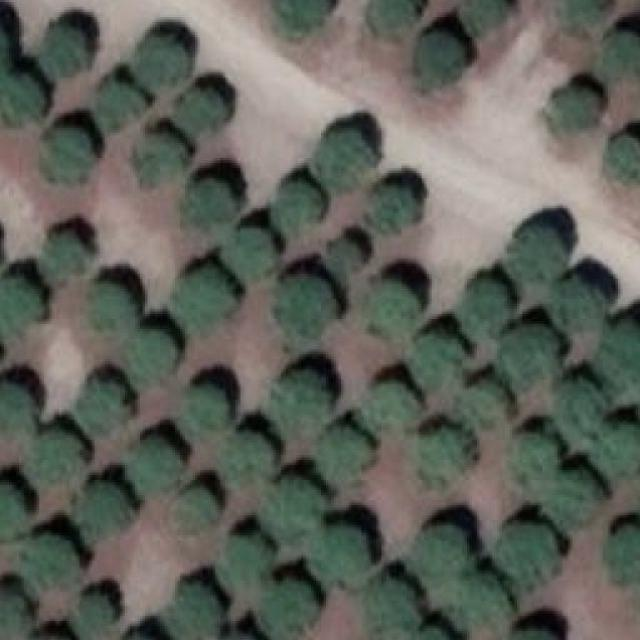Tree: (275, 274, 338, 344), (497, 523, 558, 589), (271, 366, 329, 435), (414, 528, 474, 592), (499, 327, 558, 390), (313, 128, 373, 188), (308, 525, 368, 584), (172, 266, 233, 324), (71, 379, 130, 438), (266, 478, 321, 541), (261, 577, 315, 640), (444, 576, 509, 626), (165, 582, 221, 640), (76, 480, 130, 540), (365, 581, 419, 639), (541, 470, 595, 528), (129, 437, 182, 495), (134, 35, 187, 91), (124, 329, 177, 384), (24, 535, 80, 586), (514, 228, 565, 282), (371, 282, 422, 335), (26, 432, 82, 480), (413, 337, 462, 391), (591, 423, 640, 477), (318, 428, 366, 483), (557, 384, 608, 435), (363, 382, 419, 428), (39, 131, 90, 181), (549, 282, 605, 327), (177, 87, 226, 138), (137, 128, 182, 183), (462, 282, 507, 337), (601, 323, 640, 386), (222, 432, 273, 480), (368, 183, 417, 232), (422, 430, 467, 483), (415, 32, 459, 86), (222, 228, 273, 274), (0, 277, 39, 337), (222, 535, 268, 584), (43, 27, 87, 78), (459, 382, 509, 426), (0, 74, 45, 122), (278, 181, 318, 235), (182, 387, 231, 431), (94, 82, 140, 128), (93, 281, 137, 329), (598, 35, 640, 85), (514, 435, 555, 485), (279, 0, 329, 39), (185, 181, 231, 222), (41, 236, 82, 280), (174, 488, 217, 528), (608, 525, 640, 576), (370, 0, 414, 37), (554, 92, 598, 128), (605, 136, 640, 181), (0, 381, 32, 429), (0, 591, 27, 639), (0, 485, 24, 535), (467, 0, 502, 29), (82, 596, 115, 624), (331, 242, 361, 272), (566, 0, 600, 22)
